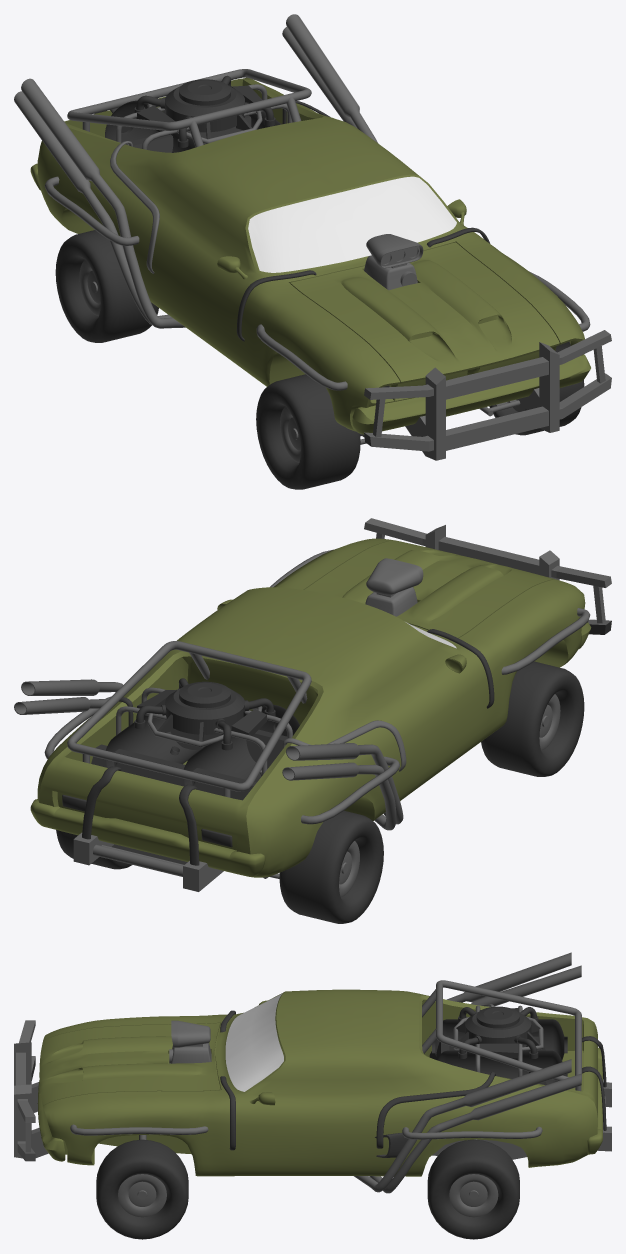
The model's file is MDL_D_HeavyCar_01.fbx.
3 views of the same model, one above another, from view 1: azimuth 30°, elevation 25°; view 2: azimuth 150°, elevation 25°; view 3: azimuth 270°, elevation 25° (orthographic). The views are drawn at different scales.
Visible parts, largest first — view 1: MainBody, External Accessories, Wheel_R_F, Wheel_R_B, Wheel_L_F; view 2: MainBody, External Accessories, Wheel_R_B, Wheel_R_F, Wheel_L_B; view 3: MainBody, External Accessories, Wheel_L_B, Wheel_L_F.
Part boxes in pixels (left/top/right/bottom): MainBody: left=30, top=77, right=590, bottom=434; External Accessories: left=14, top=14, right=611, bottom=460; Wheel_R_F: left=256, top=374, right=360, bottom=489; Wheel_R_B: left=55, top=230, right=158, bottom=342; Wheel_L_F: left=489, top=380, right=584, bottom=435; MainBody: left=30, top=538, right=591, bottom=877; External Accessories: left=14, top=518, right=611, bottom=891; Wheel_R_B: left=279, top=810, right=383, bottom=923; Wheel_R_F: left=481, top=661, right=584, bottom=776; Wheel_L_B: left=56, top=830, right=131, bottom=869; MainBody: left=37, top=989, right=602, bottom=1176; External Accessories: left=14, top=952, right=611, bottom=1193; Wheel_L_B: left=427, top=1139, right=519, bottom=1239; Wheel_L_F: left=96, top=1139, right=188, bottom=1239.
Bounding box in the file's own units: 235 × 167 × 502.
